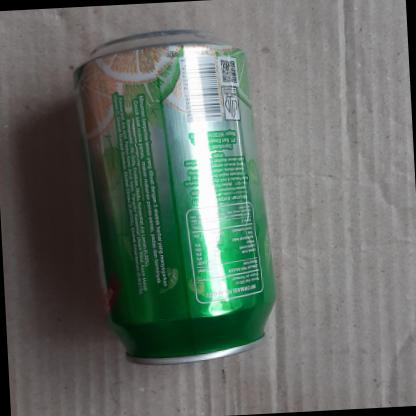alumunium_can: (50, 19, 312, 374)
